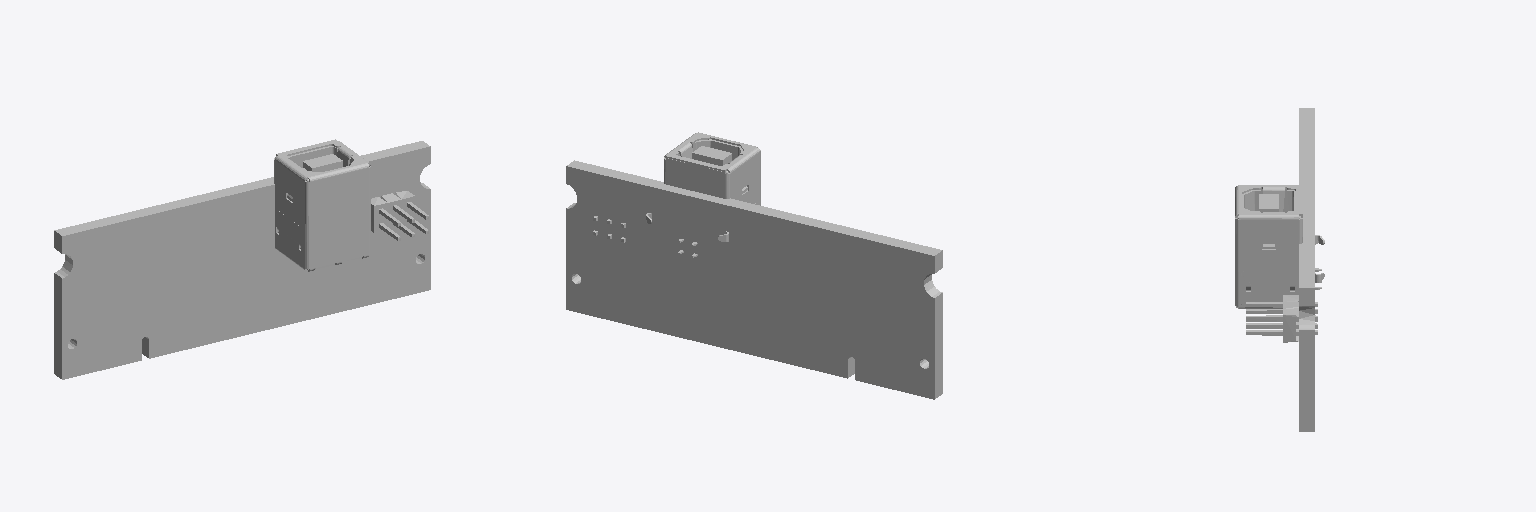
File: OBJ_PCB_RPi CM impersonator.obj
The picture shows the model from 3 angles: view 1: azimuth 30°, elevation 25°; view 2: azimuth 150°, elevation 25°; view 3: azimuth 270°, elevation 25°; orthographic projection.
Bounding box in the file's own units: 265 × 118 × 55.91.